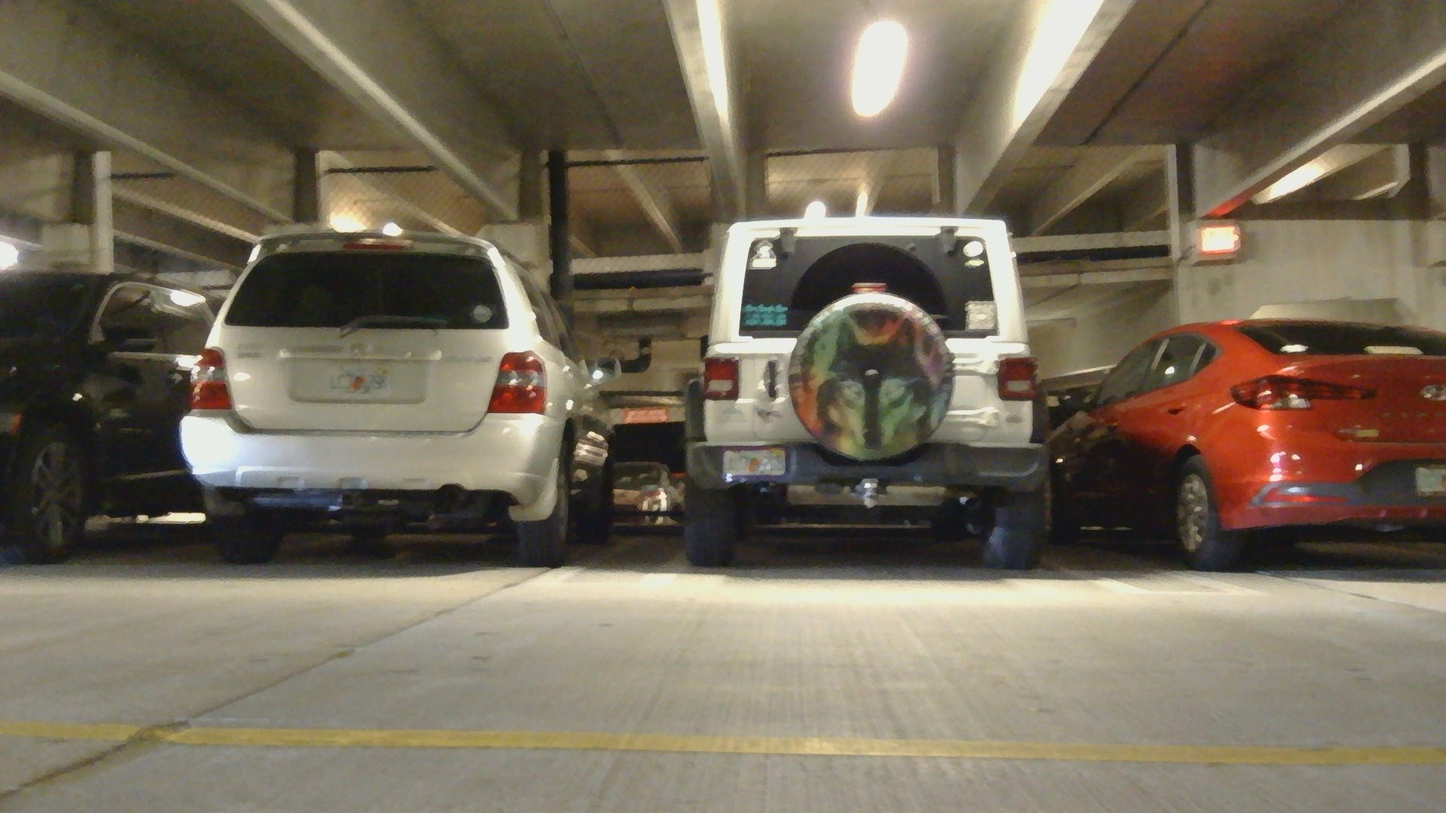occupied_spot: (166, 229, 630, 573), (666, 204, 1072, 573), (1044, 303, 1446, 573), (0, 265, 239, 571)
